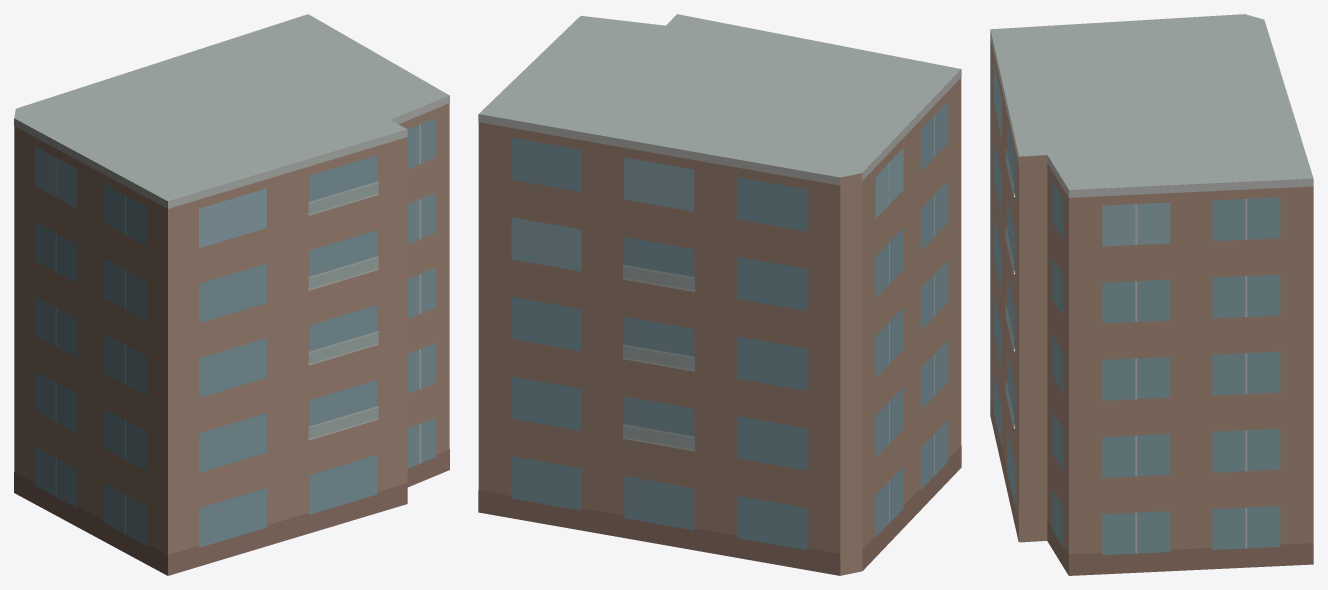
Rendered from survey-upis-32530990.glb.
3 views of the same model, side by side, from view 1: azimuth 30°, elevation 25°; view 2: azimuth 150°, elevation 25°; view 3: azimuth 270°, elevation 25° (orthographic). The views are drawn at different scales.
Visible parts, largest first — view 1: survey-upis-32530990.tmp; view 2: survey-upis-32530990.tmp; view 3: survey-upis-32530990.tmp.
Boxes of the visible parts, x1,y1,x2,y2 form: survey-upis-32530990.tmp: (14, 14, 449, 575); survey-upis-32530990.tmp: (478, 14, 961, 575); survey-upis-32530990.tmp: (990, 14, 1313, 575).
Bounding box in the file's own units: 11.75 × 12 × 9.12.
